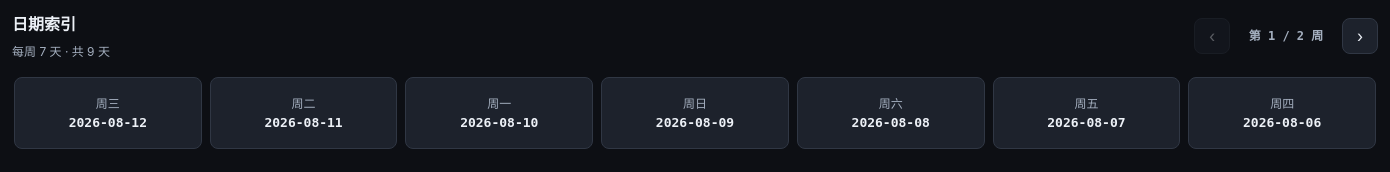
Test case: ReviewDateIndex › 每次只展示一组七个日报日期，并可整周切换到更早日期
Check: the button with aria-label "查看 2026-08-12 日报" is shown, box [14, 77, 202, 149]
Click the button named "查看较早一周". click: (1360, 36)
box: [1342, 18, 1378, 54]
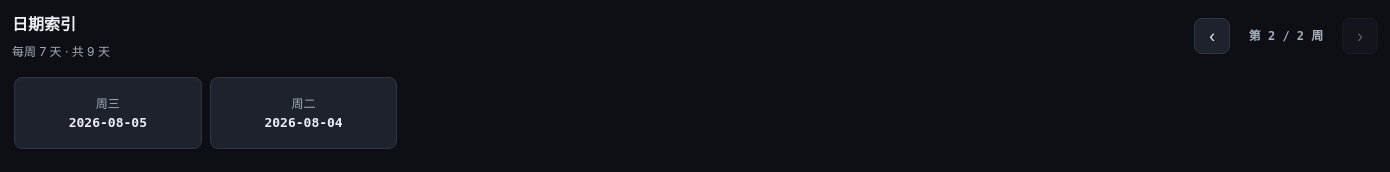
Check: the number of buttons named "查看 2026-08-" is 2, box [14, 77, 202, 149]; [210, 77, 397, 149]
Check: the button with aria-label "查看 2026-08-05 日报" is shown, box [14, 77, 202, 149]
Check: the text "第 2 / 2 周" is shown, box [1249, 29, 1323, 43]
